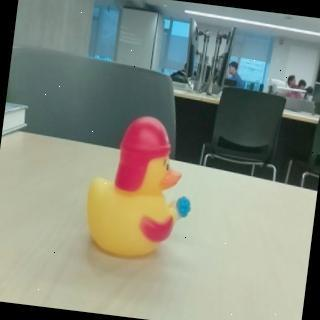duck_specialty: (79, 109, 203, 266)
